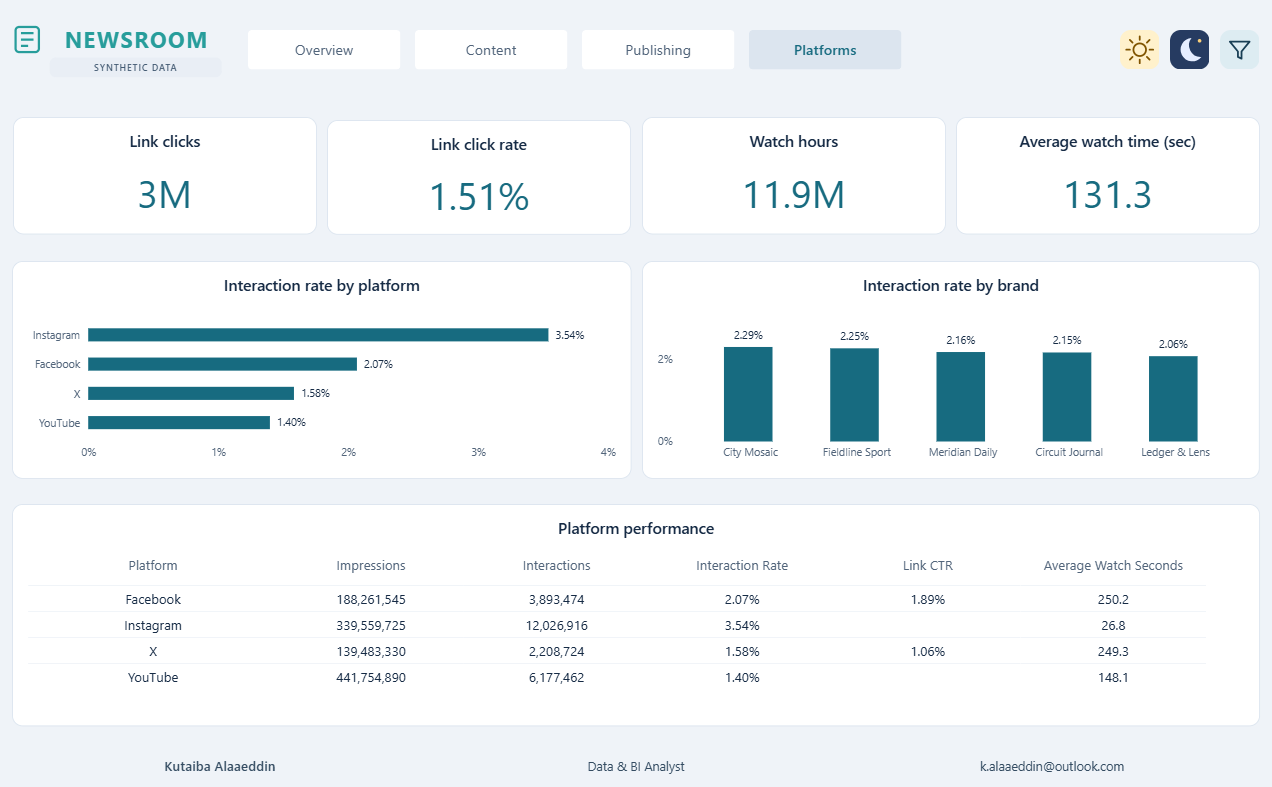

What the dashboard file says about the page in this screenshot:
{"tool":"powerbi","page":{"name":"Platform comparison","canvas":[1440,880],"ordinal":3},"visuals":[{"type":"image","box":[0,0,1440,880],"z":0},{"type":"actionButton","box":[288,28,170,44],"z":3000},{"type":"actionButton","box":[474,28,170,44],"z":4000},{"type":"actionButton","box":[660,28,170,44],"z":5000},{"type":"actionButton","box":[846,28,170,44],"z":6000},{"type":"image","box":[1372,28,44,44],"z":8000},{"type":"card","title":"Link clicks","fields":{"Values":["ReportMetrics.Link Clicks"]},"box":[25.7,125.4,338.5,131.5],"z":9000},{"type":"image","box":[24,14,240,70],"z":10000},{"type":"card","title":"Link click rate","fields":{"Values":["ReportMetrics.Link CTR"]},"box":[376.3,128.5,338.5,128.5],"z":11000},{"type":"card","title":"Watch hours","fields":{"Values":["ReportMetrics.Watch Hours"]},"box":[727,125.4,338.5,131.5],"z":12000},{"type":"card","title":"Average watch time (sec)","fields":{"Values":["ReportMetrics.Average Watch Seconds"]},"box":[1077.6,125.4,338.5,131.5],"z":13000},{"type":"clusteredBarChart","title":"Interaction rate by platform","fields":{"Category":["DimPost.Platform"],"Y":["ReportMetrics.Interaction Rate"]},"box":[24.2,285.6,690.7,243.3],"z":14000},{"type":"clusteredColumnChart","title":"Interaction rate by brand","fields":{"Category":["DimPost.BrandName"],"Y":["ReportMetrics.Interaction Rate"]},"box":[727,285.6,689.2,243.3],"z":15000},{"type":"tableEx","title":"Platform performance","fields":{"Values":["DimPost.Platform","ReportMetrics.Impressions","ReportMetrics.Interactions","ReportMetrics.Interaction Rate","ReportMetrics.Link CTR","ReportMetrics.Average Watch Seconds"]},"box":[24,556,1392,248],"z":16000},{"type":"image","box":[1260,28,44,44],"z":18000},{"type":"image","box":[24,828,1392,40],"z":19000},{"type":"image","box":[1316,28,44,44],"z":20000}]}

Visuals, with their boxes in screenshot pixels (x1, y1, x2, y2), scaled from the page's 1440x880 canvas onto the 1272x787 screenshot:
image: Rect(0, 0, 1271, 786)
actionButton: Rect(254, 25, 405, 64)
actionButton: Rect(419, 25, 569, 64)
actionButton: Rect(583, 25, 733, 64)
actionButton: Rect(747, 25, 897, 64)
image: Rect(1212, 25, 1251, 64)
"Link clicks" card: Rect(23, 112, 322, 230)
image: Rect(21, 13, 233, 75)
"Link click rate" card: Rect(332, 115, 631, 230)
"Watch hours" card: Rect(642, 112, 941, 230)
"Average watch time (sec)" card: Rect(952, 112, 1251, 230)
"Interaction rate by platform" clusteredBarChart: Rect(21, 255, 631, 473)
"Interaction rate by brand" clusteredColumnChart: Rect(642, 255, 1251, 473)
"Platform performance" tableEx: Rect(21, 497, 1251, 719)
image: Rect(1113, 25, 1152, 64)
image: Rect(21, 740, 1251, 776)
image: Rect(1162, 25, 1201, 64)
